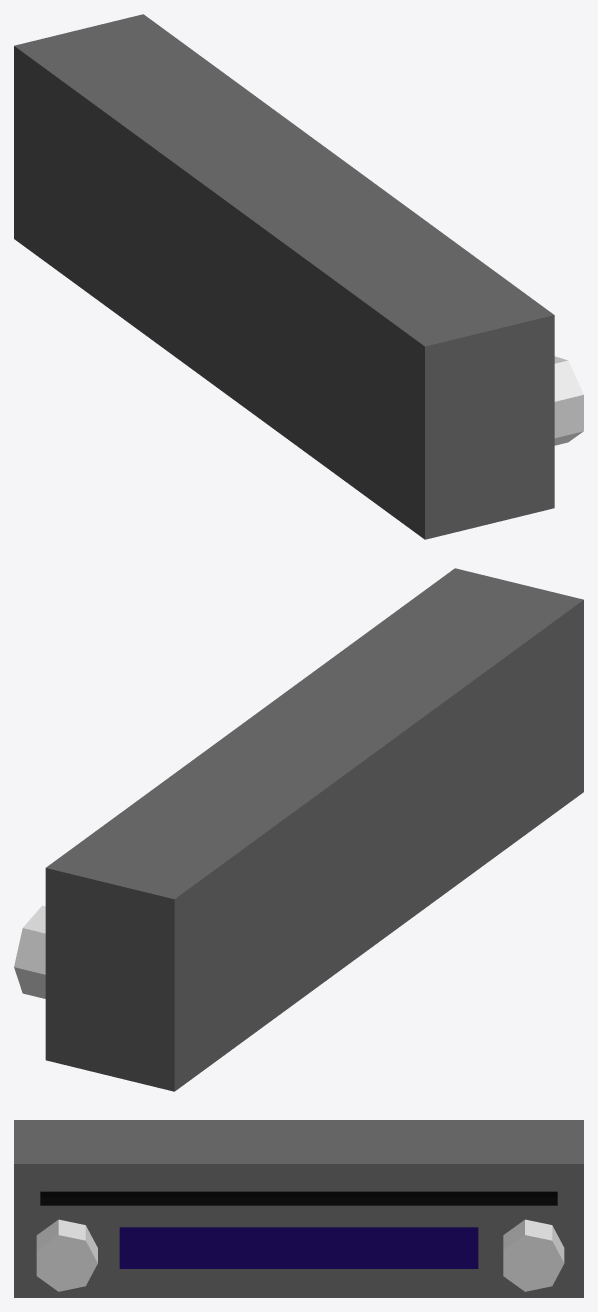
The model's file is radio.fbx.
3 renders of one model, top to bottom at view 1: azimuth 30°, elevation 25°; view 2: azimuth 150°, elevation 25°; view 3: azimuth 270°, elevation 25°, orthographic. The views are drawn at different scales.
Visible parts, largest first — view 1: Cube; view 2: Cube; view 3: Cube.
Boxes of the visible parts, <box> form: Cube: <box>14,14,583,539</box>; Cube: <box>14,568,583,1091</box>; Cube: <box>14,1120,583,1297</box>.
Size of the model in its own units: 271 by 285 by 1100.
